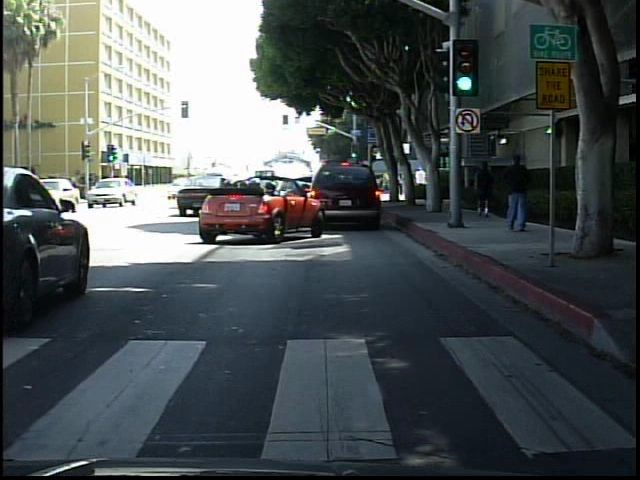person: (501, 147, 534, 239), (474, 156, 499, 222)
